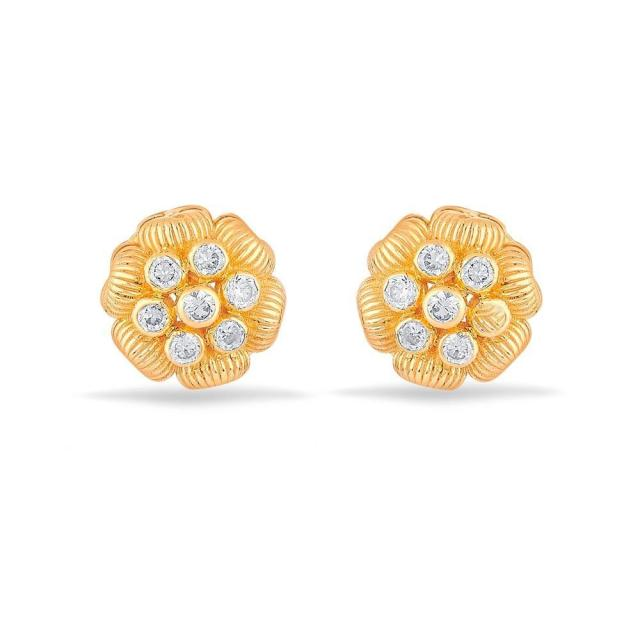missing gem: (473, 302, 506, 334)
